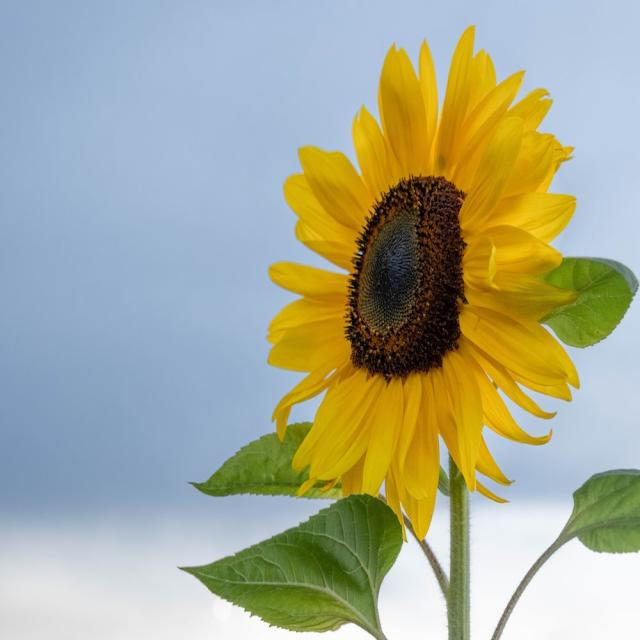sunflower: (262, 18, 587, 552)
